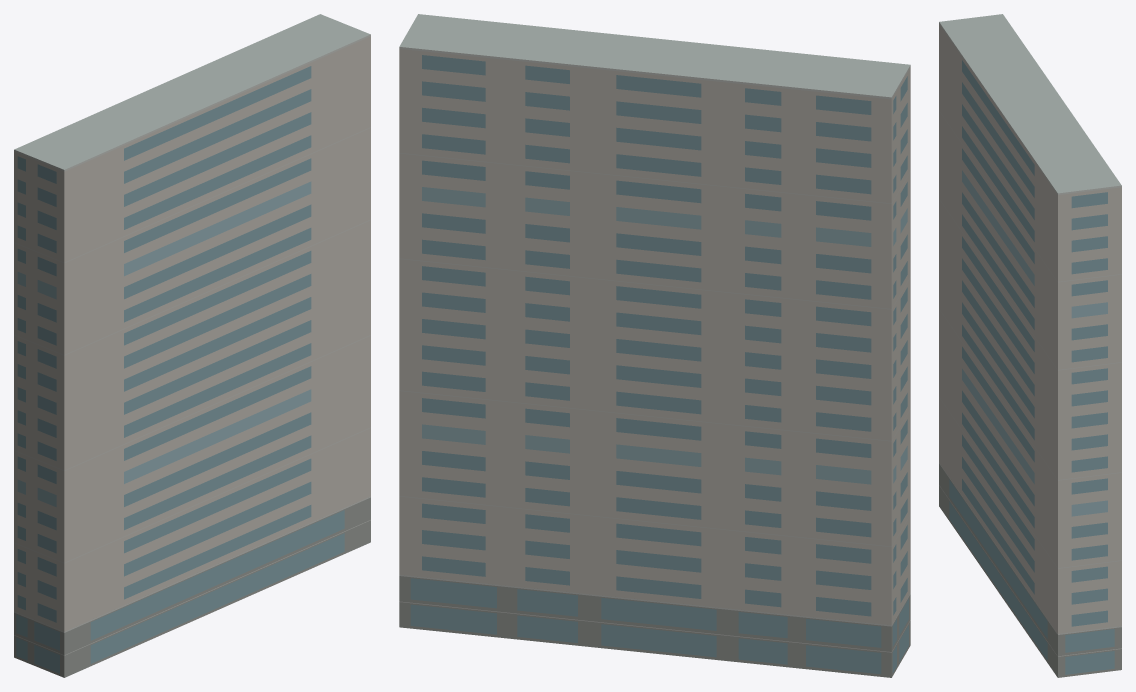
File: residential-5630dd1e-bcbf-4926-92b1-323b1c627d29.glb
3 renders of one model, left to right at view 1: azimuth 30°, elevation 25°; view 2: azimuth 150°, elevation 25°; view 3: azimuth 270°, elevation 25°, orthographic. The views are drawn at different scales.
Parts seen in each view (by area): view 1: residential-5630dd1e-bcbf-4926-92b1-323b1c627d29.tmp; view 2: residential-5630dd1e-bcbf-4926-92b1-323b1c627d29.tmp; view 3: residential-5630dd1e-bcbf-4926-92b1-323b1c627d29.tmp.
Boxes of the visible parts, x1,y1,x2,y2 form: residential-5630dd1e-bcbf-4926-92b1-323b1c627d29.tmp: [14, 14, 370, 677]; residential-5630dd1e-bcbf-4926-92b1-323b1c627d29.tmp: [399, 14, 910, 677]; residential-5630dd1e-bcbf-4926-92b1-323b1c627d29.tmp: [939, 14, 1121, 677].
Bounding box in the file's own units: 54.03 × 68 × 23.27.
